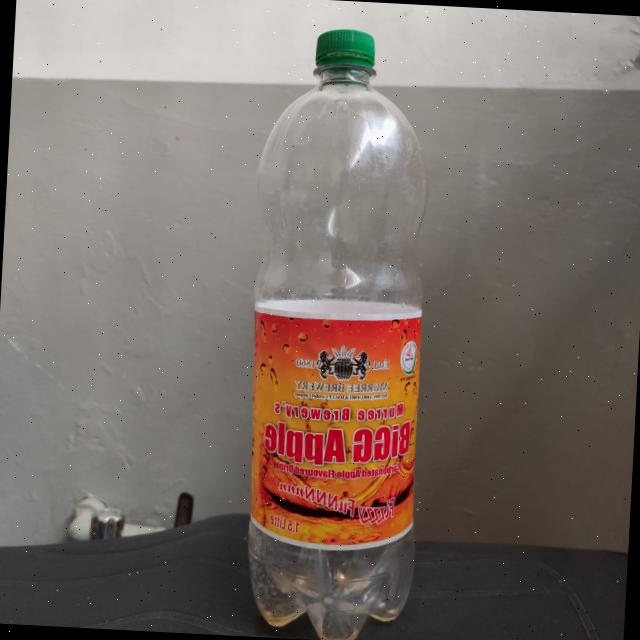bottle: (230, 16, 440, 620)
cap: (313, 23, 382, 78)
label: (236, 306, 426, 550)
